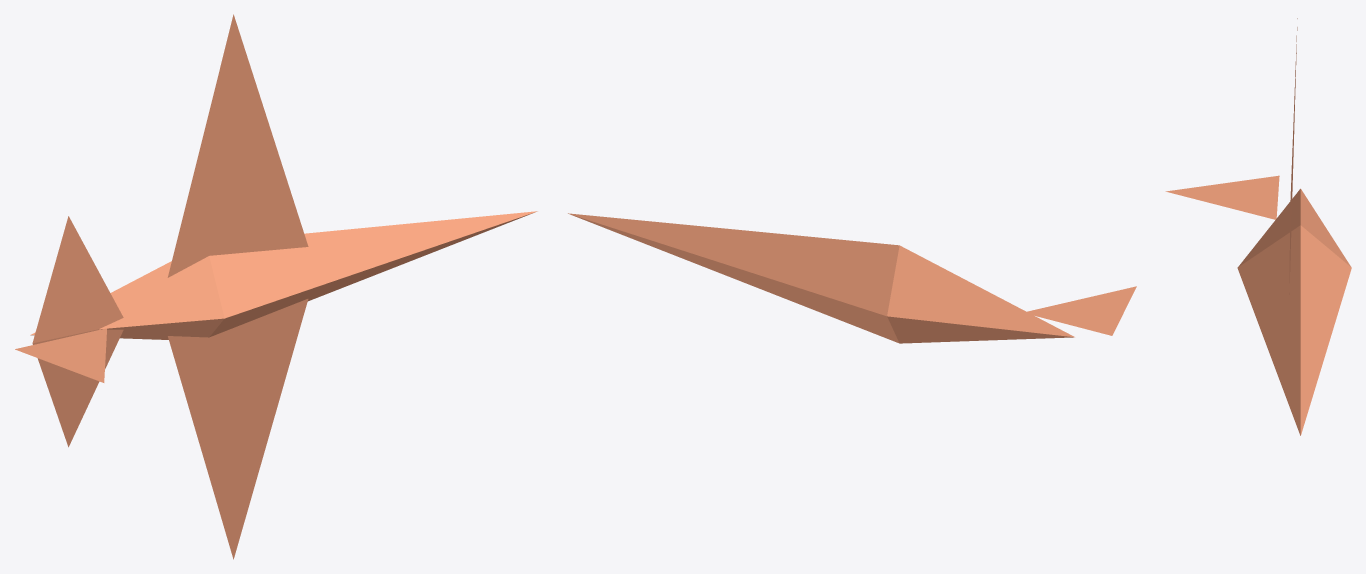
Rendered from simple-plane.glb.
3 renders of one model, left to right at view 1: azimuth 30°, elevation 25°; view 2: azimuth 150°, elevation 25°; view 3: azimuth 270°, elevation 25°, orthographic.
Bounding box in the file's own units: 4.1 × 4 × 1.24.
